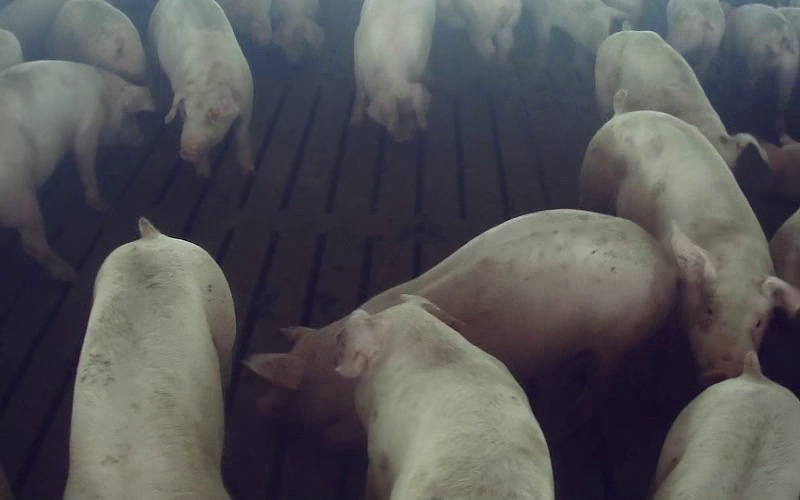pig: (580, 88, 799, 381), (65, 222, 234, 499), (336, 295, 553, 499), (595, 19, 768, 166), (653, 352, 799, 499), (149, 0, 253, 176), (351, 0, 434, 141), (45, 0, 145, 82)
